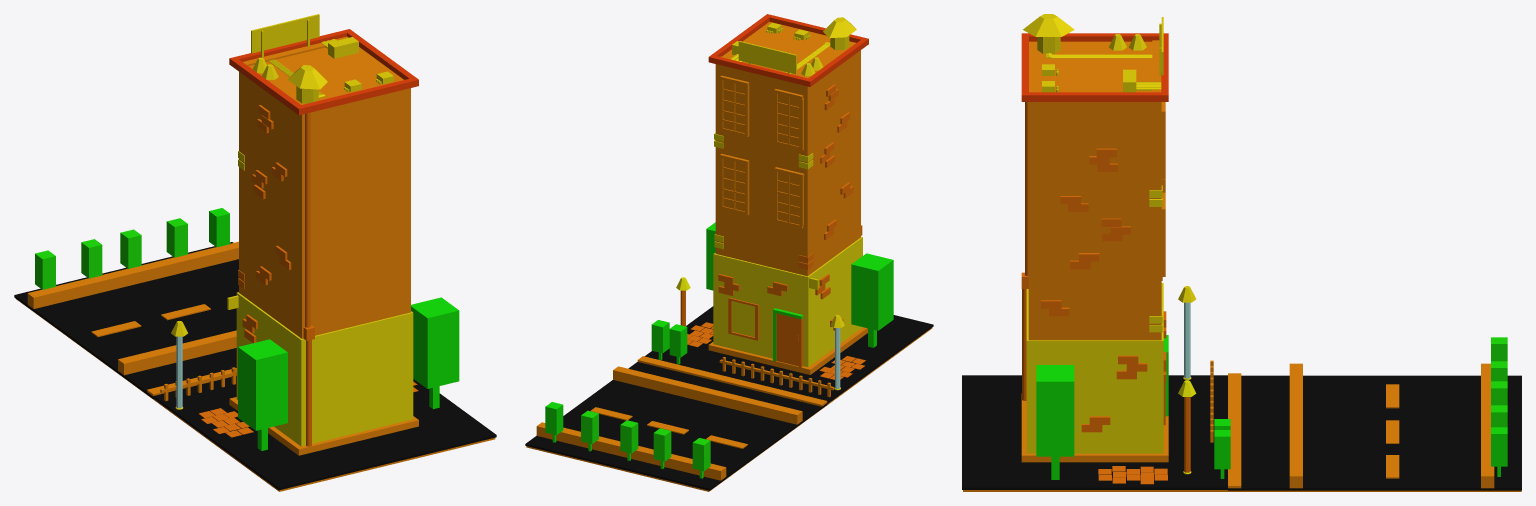
The model's file is uploads_files_2734315_untitled.fbx.
3 views of the same model, side by side, from view 1: azimuth 30°, elevation 25°; view 2: azimuth 150°, elevation 25°; view 3: azimuth 270°, elevation 25° (orthographic). The views are drawn at different scales.
Visible parts, largest first — view 1: Cube.007; view 2: Cube.007; view 3: Cube.007.
Boxes of the visible parts, <box> form: Cube.007: <box>14,14,496,491</box>; Cube.007: <box>525,14,933,491</box>; Cube.007: <box>962,14,1521,491</box>.
Bounding box in the file's own units: 4006 × 6628 × 8416.
